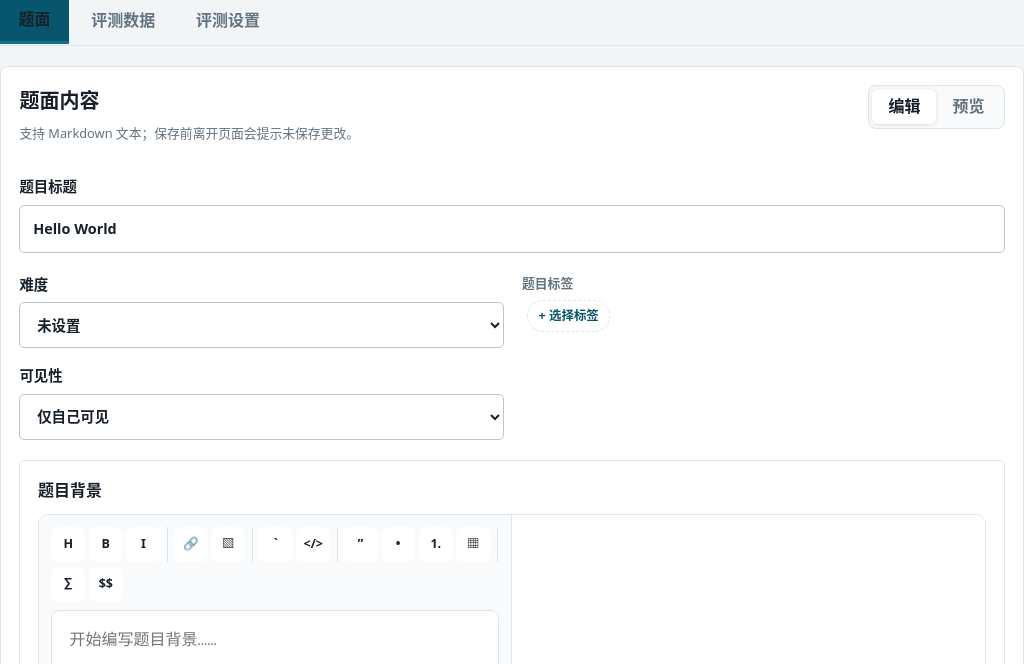
it: ProblemEditor judge-data contract UI › renders the route editor with statement, data, settings tabs and published history
Expected: the navigation bar named "题目编辑分区" reads "题面 评测数据 评测设置", [0,0,1023,46]
What coordinates should you click on to do the following:
click the button "评测数据"
I would click on:
 (123, 22)
Its box is [73,0,174,45].
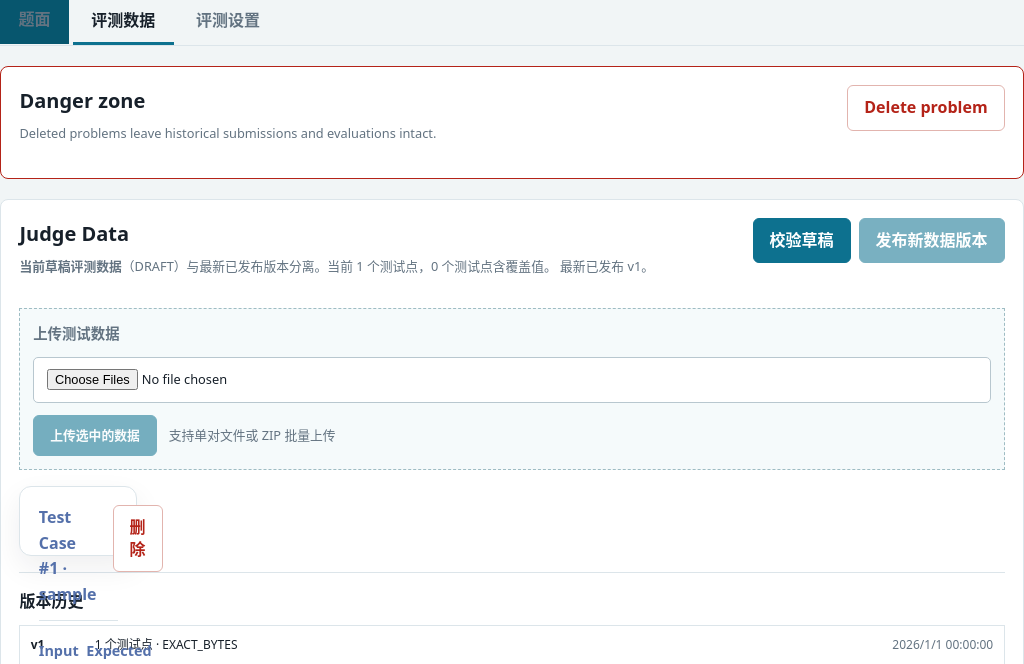
Expected: the heading "Judge Data" is shown, [19,220,129,247]
Expected: the heading "版本历史" is shown, [19,590,83,612]
Expected: the text "v1" is shown, [31,636,44,653]
What coordinates should you click on to do the following:
click the button "评测设置"
I would click on:
 (228, 22)
Its box is [178,0,278,45].
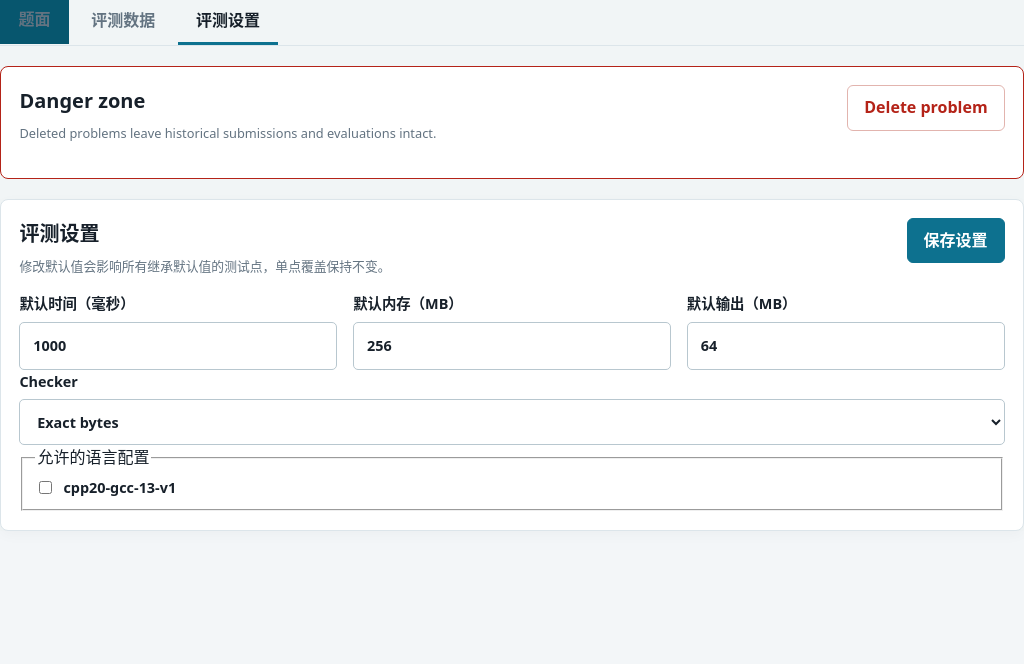
Expected: the heading "评测设置" is shown, [19,220,99,247]
Expected: the number field labelled "默认时间（毫秒）" holds "1000", [19,322,337,370]
